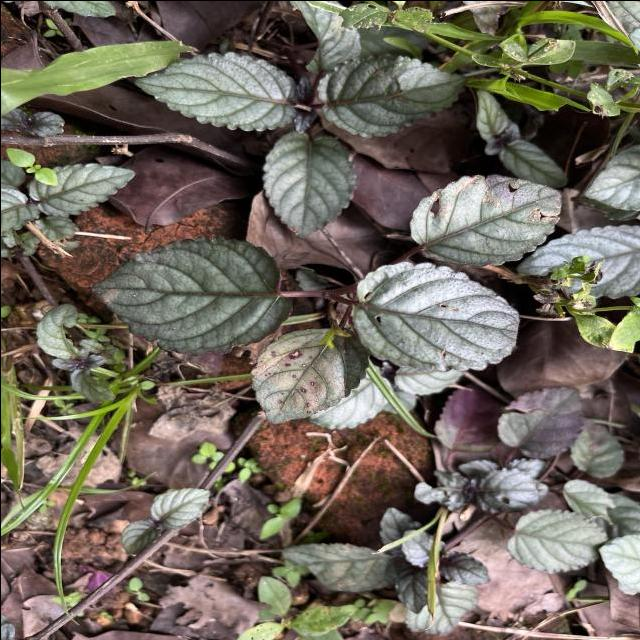Hemigraphis colorata: (86, 232, 296, 360), (346, 258, 520, 375), (406, 171, 564, 270), (314, 50, 474, 142), (132, 48, 302, 133), (246, 323, 374, 427), (258, 128, 359, 241), (506, 506, 609, 575), (26, 161, 136, 219), (148, 484, 213, 530)
